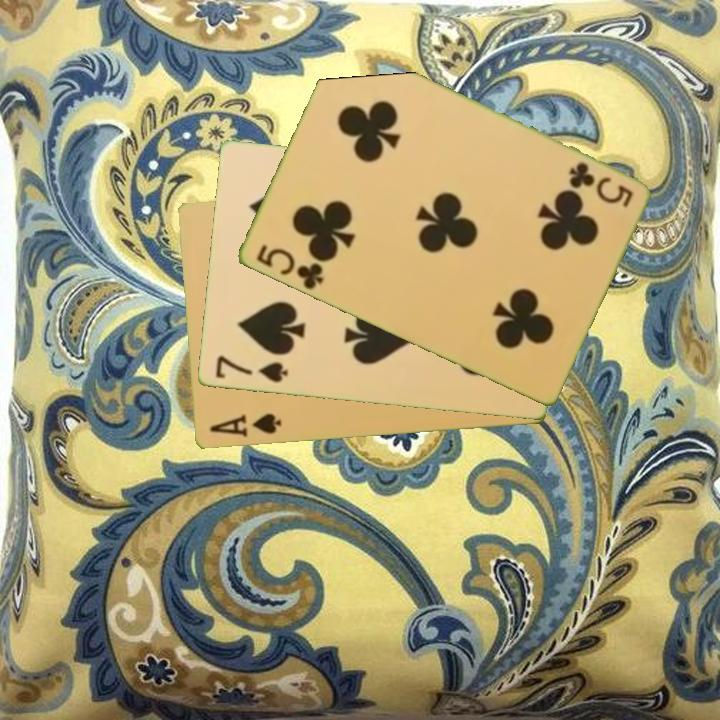5c: (252, 241, 326, 293), (564, 158, 635, 211)
7s: (211, 353, 291, 386)
As: (205, 410, 284, 440)
